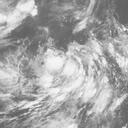cyclone: (28, 42, 110, 111)
